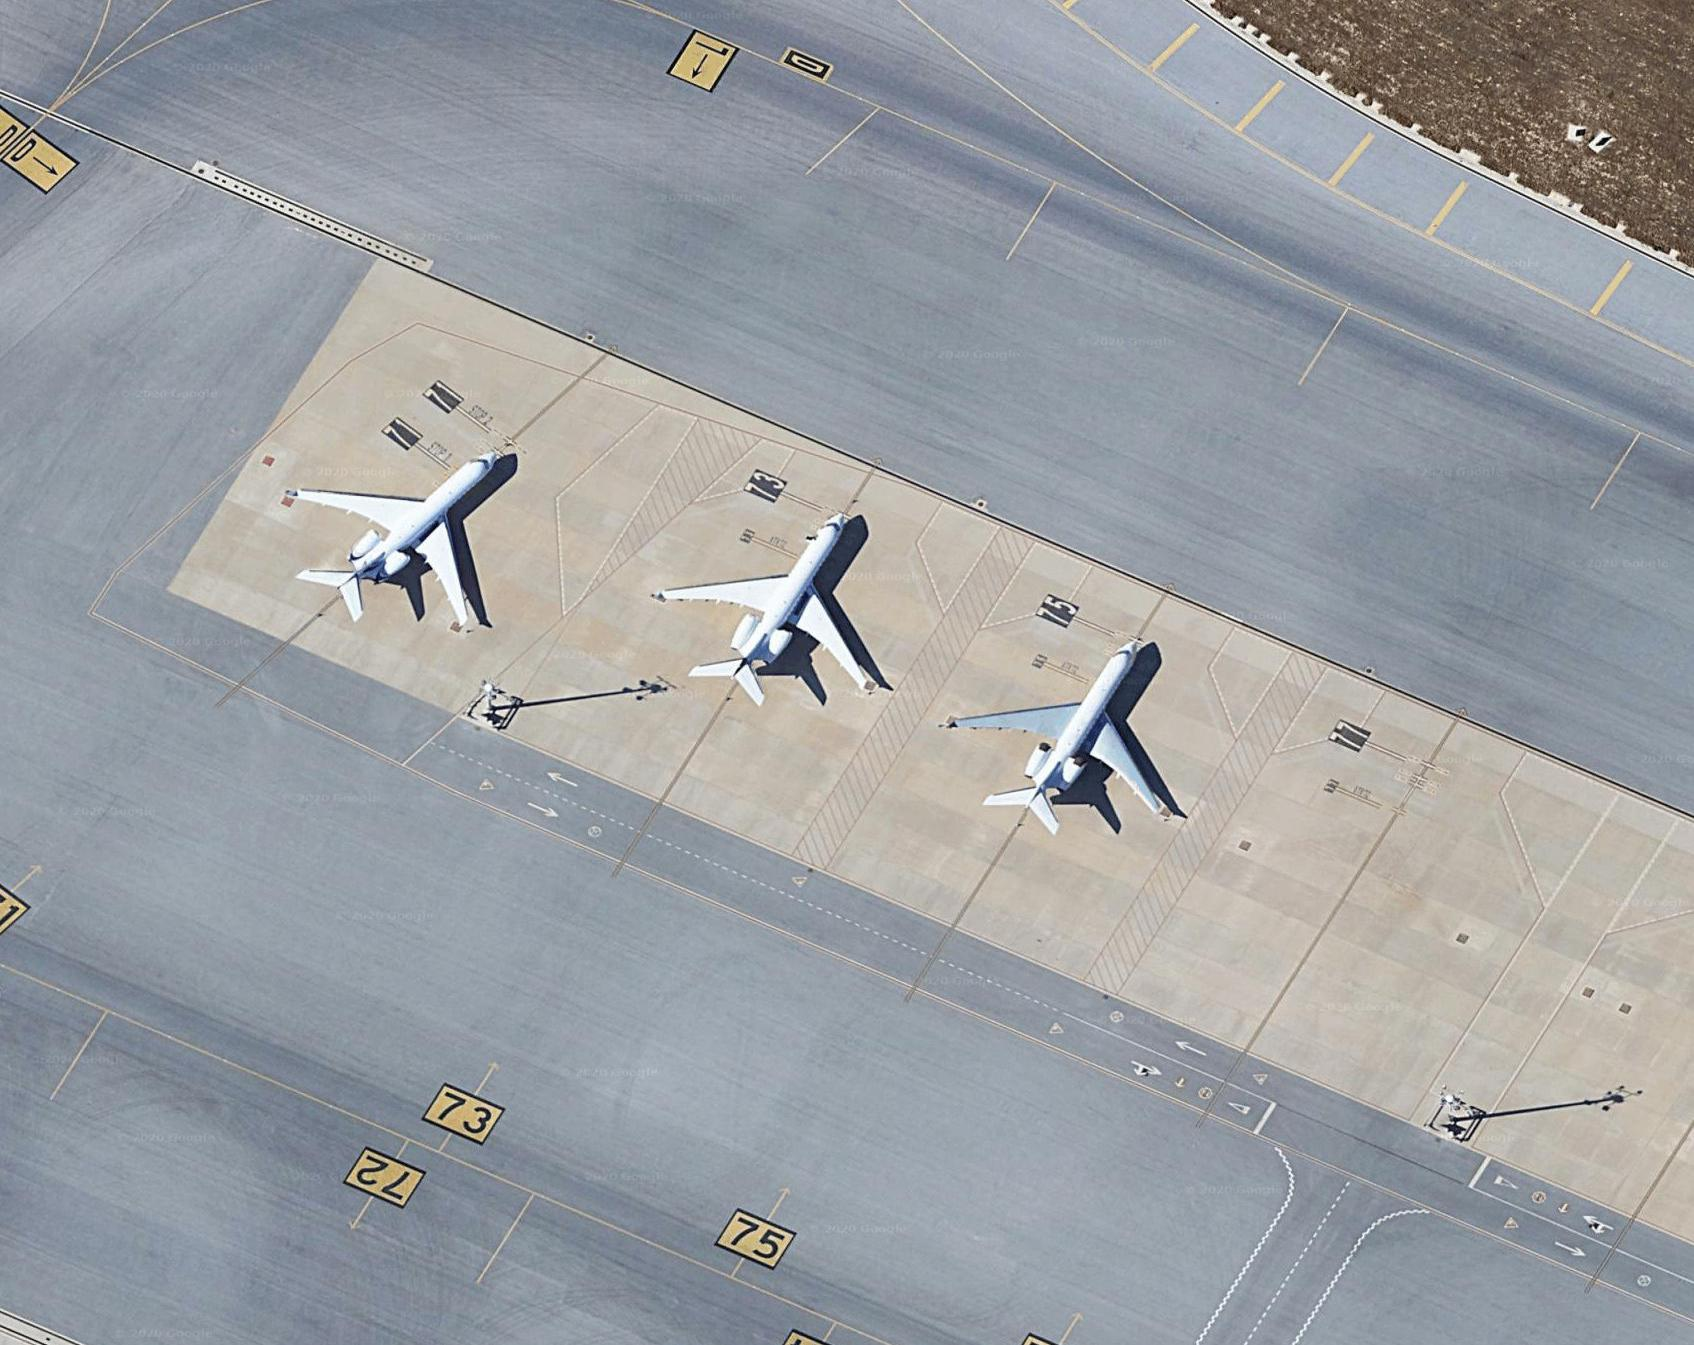plane: (241, 374, 593, 684), (912, 587, 1246, 898), (621, 463, 947, 762)
